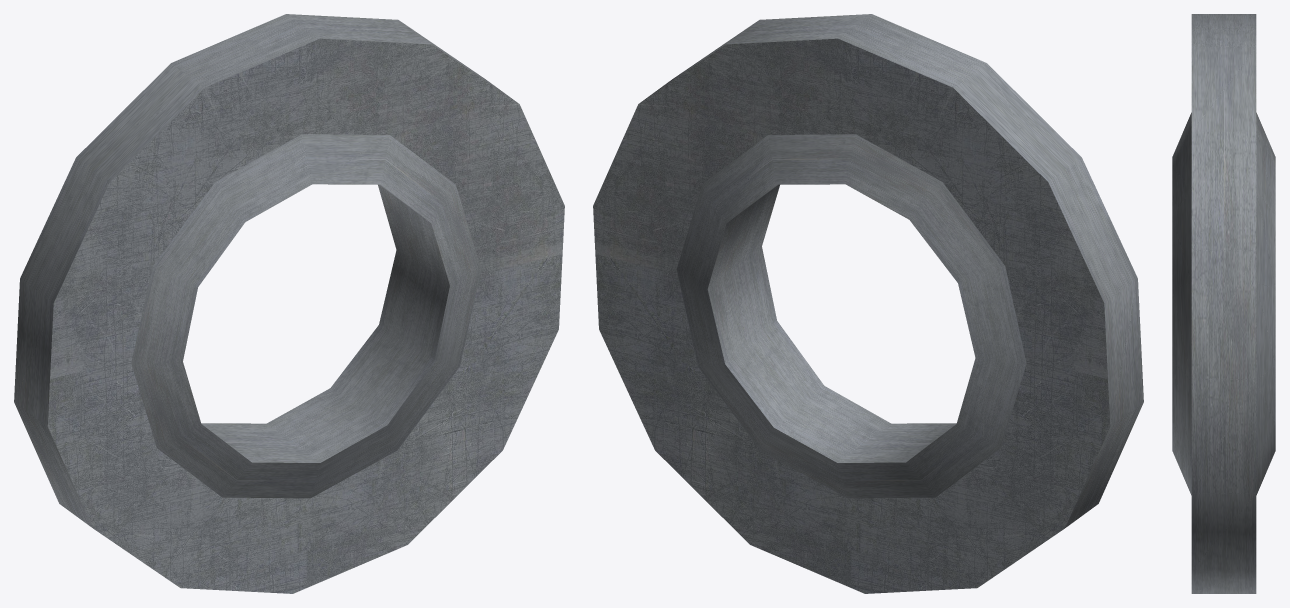
File: Rondelle_BS_M4.obj
The picture shows the model from 3 angles, left to right: view 1: azimuth 30°, elevation 25°; view 2: azimuth 150°, elevation 25°; view 3: azimuth 270°, elevation 25°; orthographic projection. The views are drawn at different scales.
Visible parts, largest first — view 1: object__5, object__6; view 2: object__5, object__6; view 3: object__5, object__6.
Part boxes in pixels (box(x1,y1,x2,y2)): object__5: box(14, 14, 564, 593); object__6: box(131, 134, 481, 498); object__5: box(593, 14, 1143, 593); object__6: box(676, 134, 1026, 498); object__5: box(1191, 14, 1256, 593); object__6: box(1172, 112, 1275, 495).
Size of the model in its own units: 8.87 by 8.99 by 1.6.
